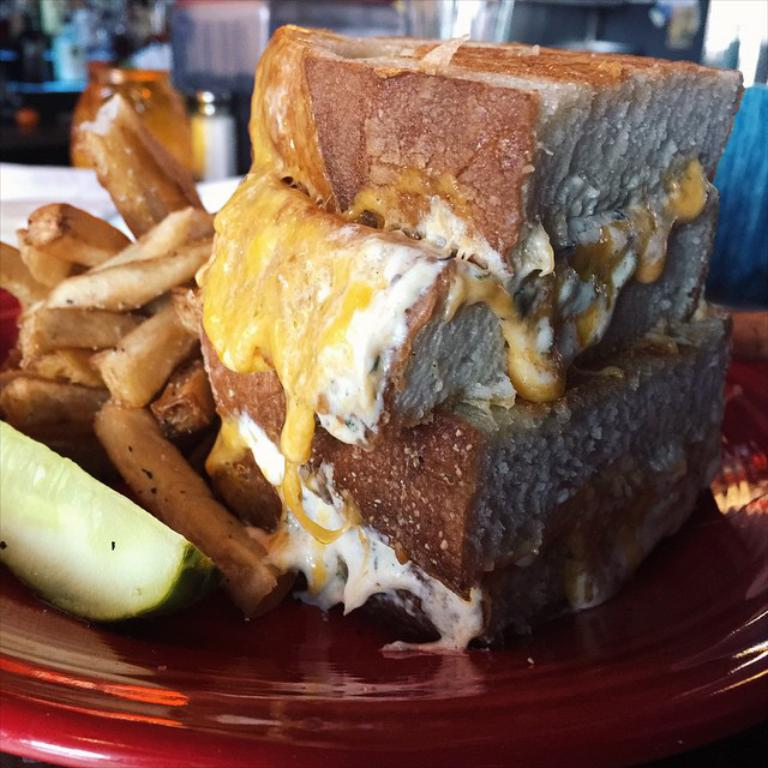French fries: (13, 53, 273, 588)
